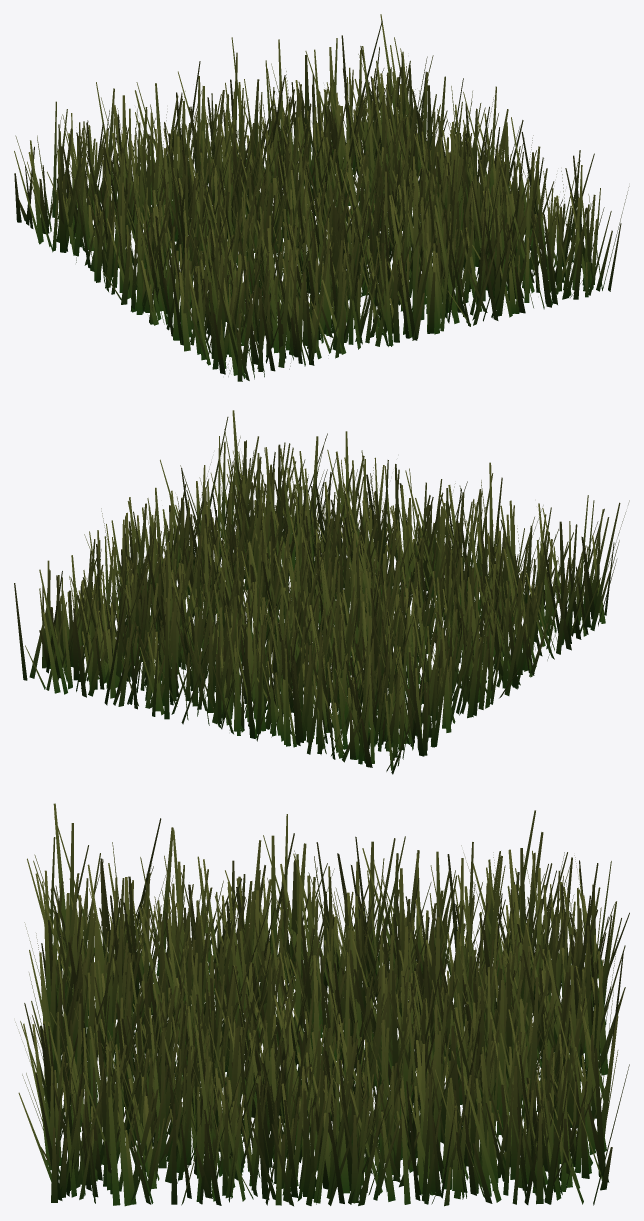
The model's file is Turf_Wild_v0.glb.
3 renders of one model, top to bottom at view 1: azimuth 30°, elevation 25°; view 2: azimuth 150°, elevation 25°; view 3: azimuth 270°, elevation 25°, orthographic. The views are drawn at different scales.
Visible parts, largest first — view 1: Turf_Wild_v0; view 2: Turf_Wild_v0; view 3: Turf_Wild_v0.
Boxes of the visible parts, left/top/right/bottom form: Turf_Wild_v0: left=14, top=14, right=629, bottom=381; Turf_Wild_v0: left=14, top=410, right=629, bottom=774; Turf_Wild_v0: left=15, top=803, right=629, bottom=1206.
Size of the model in its own units: 1.39 by 0.3956 by 1.35.
